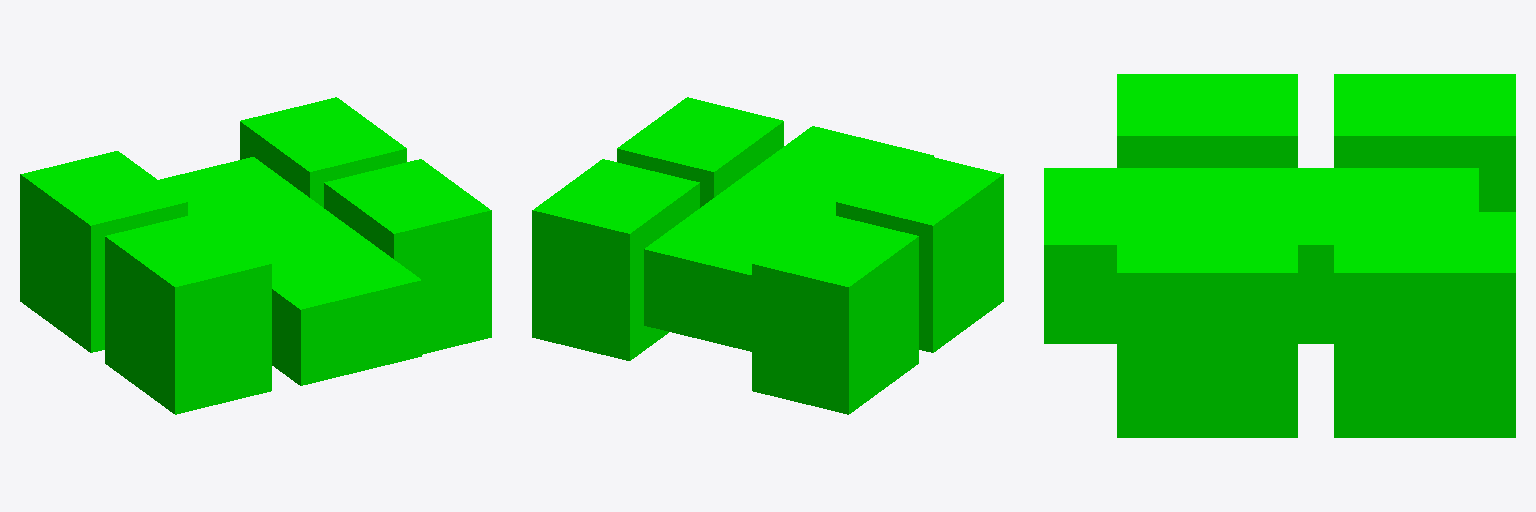
robot.urdf — robot:
<robot name = "robot">
    <link name="root">
        <inertial>
            <origin xyz="0.0 0.0 1.5" rpy="0 0 0"/>
            <mass value="1" />
            <inertia ixx="100" ixy="0" ixz="0" iyy="100" iyz="0" izz="100" />
        </inertial>
        <visual>
            <origin xyz="0.0 0.0 1.5" rpy="0 0 0"/>
            <geometry>
                <box size="0 0 0.0001" />
            </geometry>
            <material name="Green">
                <color rgba="0 1.0 0.0 1.0"/>
            </material>
        </visual>
        <collision>
            <origin xyz="0.0 0.0 1.5" rpy="0 0 0"/>
            <geometry>
                <box size="0 0 0.0001" />
            </geometry>
        </collision>
    </link>
    <joint name="root_000" type="revolute">
       <parent link="root"/>
       <child  link="000"/>
       <origin rpy="0 0 0" xyz="0.0 0.0 1.5" />
     <axis xyz="1 0 0"/>
       <limit effort="0.0" lower="-3.14159" upper="3.14159" velocity="0.0"/>
    </joint>
    <link name="000">
        <inertial>
            <origin xyz="0.0 0.15 0.0" rpy="0 0 0"/>
            <mass value="1" />
            <inertia ixx="100" ixy="0" ixz="0" iyy="100" iyz="0" izz="100" />
        </inertial>
        <visual>
            <origin xyz="0.0 0.15 0.0" rpy="0 0 0"/>
            <geometry>
                <box size="0.5 0.3 0.3" />
            </geometry>
            <material name="Green">
                <color rgba="0 1.0 0.0 1.0"/>
            </material>
        </visual>
        <collision>
            <origin xyz="0.0 0.15 0.0" rpy="0 0 0"/>
            <geometry>
                <box size="0.5 0.3 0.3" />
            </geometry>
        </collision>
    </link>
    <joint name="000_010" type="revolute">
       <parent link="000"/>
       <child  link="010"/>
       <origin rpy="0 0 0" xyz="0.0 0.3 -0.0" />
     <axis xyz="0 1 0"/>
       <limit effort="0.0" lower="-3.14159" upper="3.14159" velocity="0.0"/>
    </joint>
    <link name="010">
        <inertial>
            <origin xyz="0.0 0.15 -0.0" rpy="0 0 0"/>
            <mass value="1" />
            <inertia ixx="100" ixy="0" ixz="0" iyy="100" iyz="0" izz="100" />
        </inertial>
        <visual>
            <origin xyz="0.0 0.15 -0.0" rpy="0 0 0"/>
            <geometry>
                <box size="0.5 0.3 0.3" />
            </geometry>
            <material name="Green">
                <color rgba="0 1.0 0.0 1.0"/>
            </material>
        </visual>
        <collision>
            <origin xyz="0.0 0.15 -0.0" rpy="0 0 0"/>
            <geometry>
                <box size="0.5 0.3 0.3" />
            </geometry>
        </collision>
    </link>
    <joint name="010_020" type="revolute">
       <parent link="010"/>
       <child  link="020"/>
       <origin rpy="0 0 0" xyz="0.0 0.3 -0.0" />
     <axis xyz="0 1 0"/>
       <limit effort="0.0" lower="-3.14159" upper="3.14159" velocity="0.0"/>
    </joint>
    <link name="020">
        <inertial>
            <origin xyz="0.0 0.15 -0.0" rpy="0 0 0"/>
            <mass value="1" />
            <inertia ixx="100" ixy="0" ixz="0" iyy="100" iyz="0" izz="100" />
        </inertial>
        <visual>
            <origin xyz="0.0 0.15 -0.0" rpy="0 0 0"/>
            <geometry>
                <box size="0.5 0.3 0.3" />
            </geometry>
            <material name="Green">
                <color rgba="0 1.0 0.0 1.0"/>
            </material>
        </visual>
        <collision>
            <origin xyz="0.0 0.15 -0.0" rpy="0 0 0"/>
            <geometry>
                <box size="0.5 0.3 0.3" />
            </geometry>
        </collision>
    </link>
    <joint name="020_030" type="revolute">
       <parent link="020"/>
       <child  link="030"/>
       <origin rpy="0 0 0" xyz="0.0 0.3 -0.0" />
     <axis xyz="0 1 0"/>
       <limit effort="0.0" lower="-3.14159" upper="3.14159" velocity="0.0"/>
    </joint>
    <link name="030">
        <inertial>
            <origin xyz="0.0 0.15 -0.0" rpy="0 0 0"/>
            <mass value="1" />
            <inertia ixx="100" ixy="0" ixz="0" iyy="100" iyz="0" izz="100" />
        </inertial>
        <visual>
            <origin xyz="0.0 0.15 -0.0" rpy="0 0 0"/>
            <geometry>
                <box size="0.5 0.3 0.3" />
            </geometry>
            <material name="Green">
                <color rgba="0 1.0 0.0 1.0"/>
            </material>
        </visual>
        <collision>
            <origin xyz="0.0 0.15 -0.0" rpy="0 0 0"/>
            <geometry>
                <box size="0.5 0.3 0.3" />
            </geometry>
        </collision>
    </link>
    <joint name="030_030-100" type="revolute">
       <parent link="030"/>
       <child  link="030-100"/>
       <origin rpy="0 0 0" xyz="0.25 0.15 -0.0" />
     <axis xyz="1 0 0"/>
       <limit effort="0.0" lower="-3.14159" upper="3.14159" velocity="0.0"/>
    </joint>
    <link name="030-100">
        <inertial>
            <origin xyz="0.2 0.0 -0.0" rpy="0 0 0"/>
            <mass value="1" />
            <inertia ixx="100" ixy="0" ixz="0" iyy="100" iyz="0" izz="100" />
        </inertial>
        <visual>
            <origin xyz="0.2 0.0 -0.0" rpy="0 0 0"/>
            <geometry>
                <box size="0.4 0.5 0.5" />
            </geometry>
            <material name="Green">
                <color rgba="0 1.0 0.0 1.0"/>
            </material>
        </visual>
        <collision>
            <origin xyz="0.2 0.0 -0.0" rpy="0 0 0"/>
            <geometry>
                <box size="0.4 0.5 0.5" />
            </geometry>
        </collision>
    </link>
    <joint name="030_030-101" type="revolute">
       <parent link="030"/>
       <child  link="030-101"/>
       <origin rpy="0 0 0" xyz="-0.25 0.15 -0.0" />
     <axis xyz="1 0 0"/>
       <limit effort="0.0" lower="-3.14159" upper="3.14159" velocity="0.0"/>
    </joint>
    <link name="030-101">
        <inertial>
            <origin xyz="-0.2 0.0 -0.0" rpy="0 0 0"/>
            <mass value="1" />
            <inertia ixx="100" ixy="0" ixz="0" iyy="100" iyz="0" izz="100" />
        </inertial>
        <visual>
            <origin xyz="-0.2 0.0 -0.0" rpy="0 0 0"/>
            <geometry>
                <box size="0.4 0.5 0.5" />
            </geometry>
            <material name="Green">
                <color rgba="0 1.0 0.0 1.0"/>
            </material>
        </visual>
        <collision>
            <origin xyz="-0.2 0.0 -0.0" rpy="0 0 0"/>
            <geometry>
                <box size="0.4 0.5 0.5" />
            </geometry>
        </collision>
    </link>
    <joint name="010_010-100" type="revolute">
       <parent link="010"/>
       <child  link="010-100"/>
       <origin rpy="0 0 0" xyz="0.25 0.15 -0.0" />
     <axis xyz="1 0 0"/>
       <limit effort="0.0" lower="-3.14159" upper="3.14159" velocity="0.0"/>
    </joint>
    <link name="010-100">
        <inertial>
            <origin xyz="0.2 0.0 -0.0" rpy="0 0 0"/>
            <mass value="1" />
            <inertia ixx="100" ixy="0" ixz="0" iyy="100" iyz="0" izz="100" />
        </inertial>
        <visual>
            <origin xyz="0.2 0.0 -0.0" rpy="0 0 0"/>
            <geometry>
                <box size="0.4 0.5 0.5" />
            </geometry>
            <material name="Green">
                <color rgba="0 1.0 0.0 1.0"/>
            </material>
        </visual>
        <collision>
            <origin xyz="0.2 0.0 -0.0" rpy="0 0 0"/>
            <geometry>
                <box size="0.4 0.5 0.5" />
            </geometry>
        </collision>
    </link>
    <joint name="010_010-101" type="revolute">
       <parent link="010"/>
       <child  link="010-101"/>
       <origin rpy="0 0 0" xyz="-0.25 0.15 -0.0" />
     <axis xyz="1 0 0"/>
       <limit effort="0.0" lower="-3.14159" upper="3.14159" velocity="0.0"/>
    </joint>
    <link name="010-101">
        <inertial>
            <origin xyz="-0.2 0.0 -0.0" rpy="0 0 0"/>
            <mass value="1" />
            <inertia ixx="100" ixy="0" ixz="0" iyy="100" iyz="0" izz="100" />
        </inertial>
        <visual>
            <origin xyz="-0.2 0.0 -0.0" rpy="0 0 0"/>
            <geometry>
                <box size="0.4 0.5 0.5" />
            </geometry>
            <material name="Green">
                <color rgba="0 1.0 0.0 1.0"/>
            </material>
        </visual>
        <collision>
            <origin xyz="-0.2 0.0 -0.0" rpy="0 0 0"/>
            <geometry>
                <box size="0.4 0.5 0.5" />
            </geometry>
        </collision>
    </link>
</robot>

--- Render facts (derived) ---
Views: 3 orthographic renders of the robot side by side, from view 1: azimuth 30°, elevation 25°; view 2: azimuth 150°, elevation 25°; view 3: azimuth 270°, elevation 25°.
Model robot with 9 links and 8 joints (8 revolute), rooted at root, posed all joints at 0.
Links seen in each view (by area): view 1: 010-101, 030-101, 010-100, 000, 030-100, 010, 030, 020; view 2: 030-101, 030-100, 010-101, 030, 010-100, 010, 000, 020; view 3: 030-100, 010-100, 030-101, 010-101, 000, 020, 010, 030.
Link boxes in pixels (x1,y1,x2,y2): 010-101: (105, 212, 271, 414); 030-101: (20, 151, 187, 352); 010-100: (324, 159, 491, 354); 000: (272, 249, 421, 385); 030-100: (240, 97, 406, 207); 010: (243, 218, 378, 274); 030: (159, 157, 295, 213); 020: (188, 188, 336, 241); 030-101: (752, 212, 918, 414); 030-100: (532, 159, 699, 360); 010-101: (836, 151, 1003, 352); 030: (644, 218, 780, 351); 010-100: (617, 97, 783, 207); 010: (728, 157, 864, 213); 000: (771, 126, 933, 179); 020: (687, 188, 835, 241); 030-100: (1334, 212, 1515, 437); 010-100: (1117, 212, 1297, 437); 030-101: (1334, 74, 1515, 211); 010-101: (1117, 74, 1297, 167); 000: (1044, 168, 1152, 343); 020: (1262, 168, 1370, 343); 010: (1153, 168, 1261, 211); 030: (1371, 168, 1478, 211).
Bounding box of the posed robot: 1.3 × 1.3 × 0.5 m (x, y, z).
Geometry: primitives only (box / cylinder / sphere), no mesh files.
